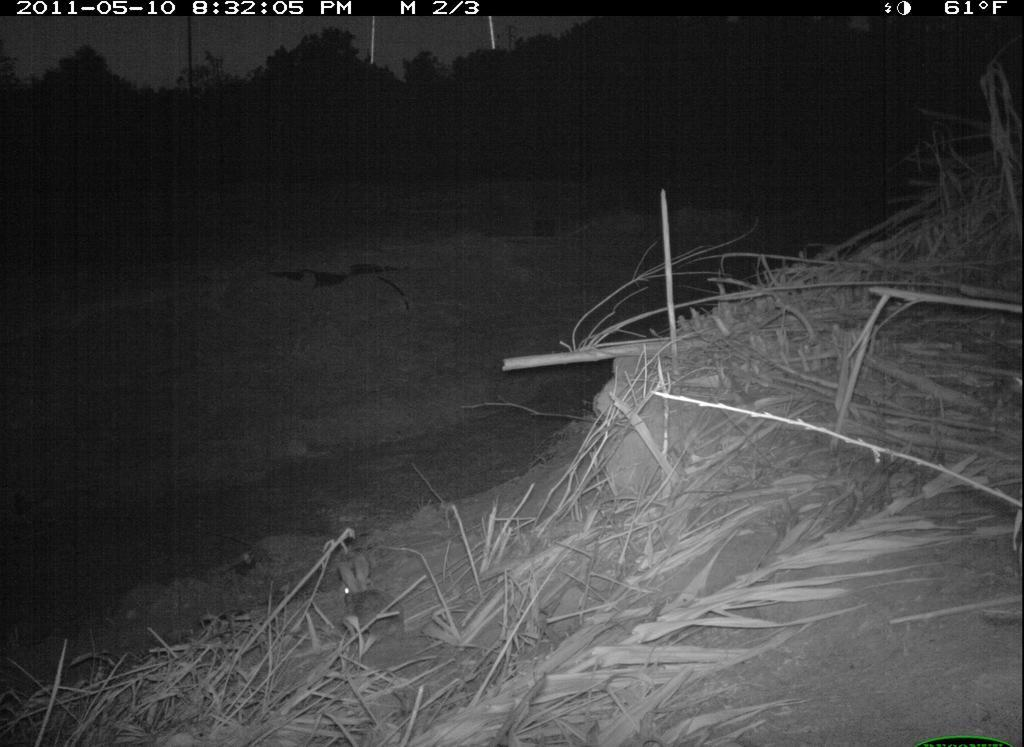rabbit: (318, 548, 420, 648)
